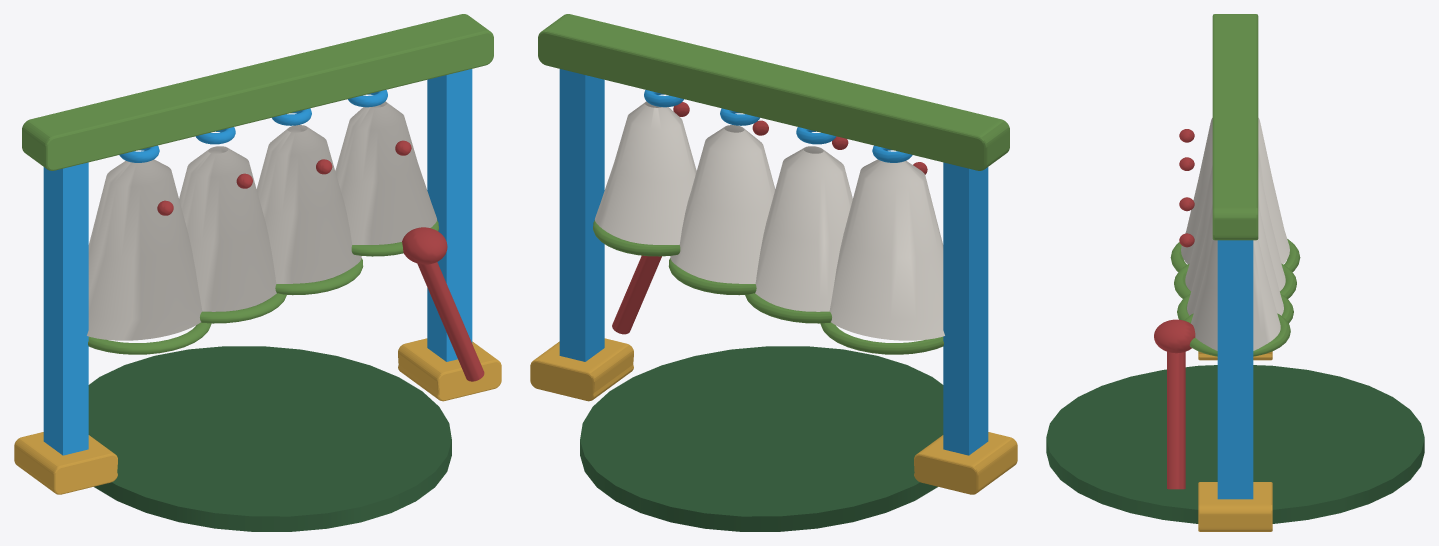
The model's file is 0614_考古图鉴_秦公一号大墓石磬.glb.
The picture shows the model from 3 angles, left to right: view 1: azimuth 30°, elevation 25°; view 2: azimuth 150°, elevation 25°; view 3: azimuth 270°, elevation 25°; orthographic projection. The views are drawn at different scales.
Parts seen in each view (by area): view 1: card_0614; view 2: card_0614; view 3: card_0614.
Part boxes in pixels (x1,y1,x2,y2): card_0614: [14, 14, 501, 531]; card_0614: [530, 14, 1017, 531]; card_0614: [1046, 14, 1424, 531].
Size of the model in its own units: 1.26 by 1 by 1.01.
